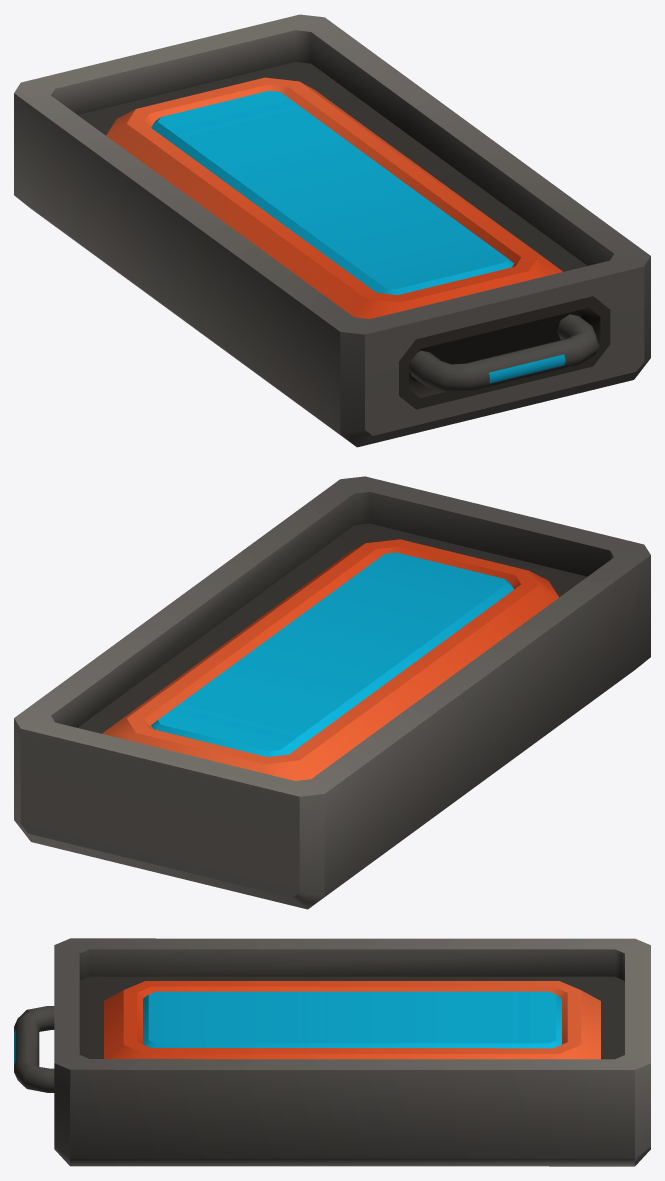
Rendered from Charging_Station_09_Cap_01.fbx.
3 renders of one model, top to bottom at view 1: azimuth 30°, elevation 25°; view 2: azimuth 150°, elevation 25°; view 3: azimuth 270°, elevation 25°, orthographic. The views are drawn at different scales.
Parts seen in each view (by area): view 1: Charging_Station_09_Cap_01; view 2: Charging_Station_09_Cap_01; view 3: Charging_Station_09_Cap_01.
Part boxes in pixels (bbox=[...]): Charging_Station_09_Cap_01: bbox=[14, 14, 650, 447]; Charging_Station_09_Cap_01: bbox=[14, 476, 650, 909]; Charging_Station_09_Cap_01: bbox=[14, 938, 650, 1166].
Size of the model in its own units: 10.12 by 3.73 by 20.75.
